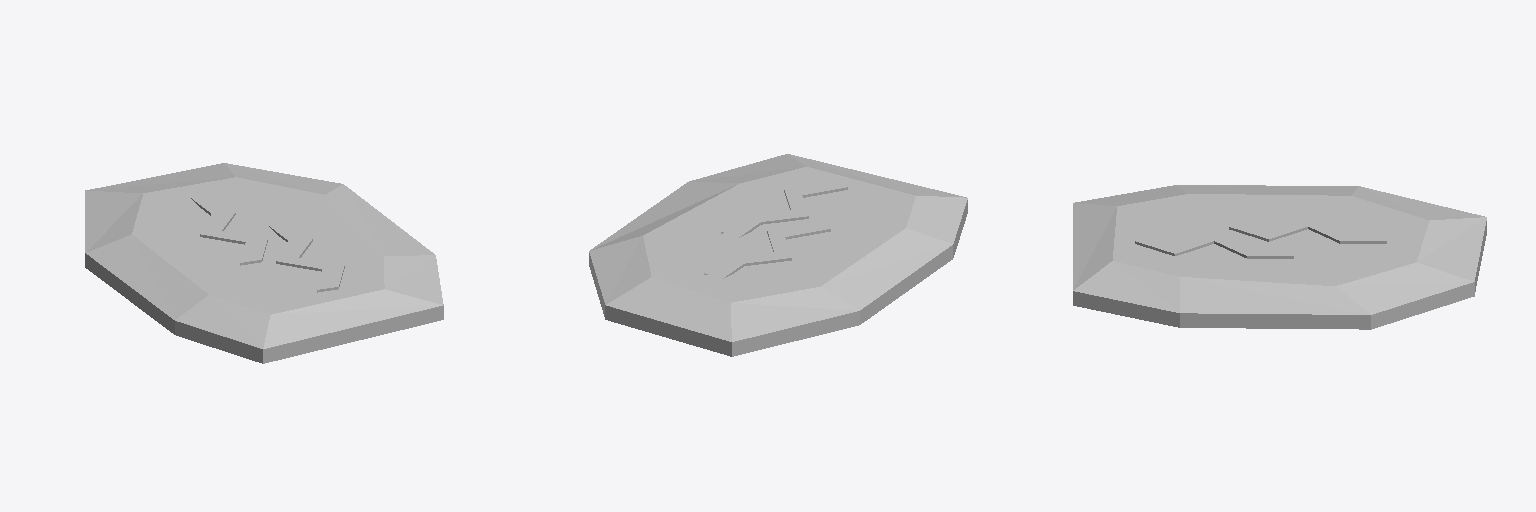
Rendered from ruin-wind.obj.
3 views of the same model, side by side, from view 1: azimuth 30°, elevation 25°; view 2: azimuth 150°, elevation 25°; view 3: azimuth 270°, elevation 25° (orthographic).
Parts seen in each view (by area): view 1: ruin_Cylinder; view 2: ruin_Cylinder; view 3: ruin_Cylinder.
Part boxes in pixels (bbox=[...]): ruin_Cylinder: bbox=[85, 163, 443, 363]; ruin_Cylinder: bbox=[589, 154, 967, 356]; ruin_Cylinder: bbox=[1073, 185, 1486, 329].
Bounding box in the file's own units: 19.12 × 2.7 × 25.77.